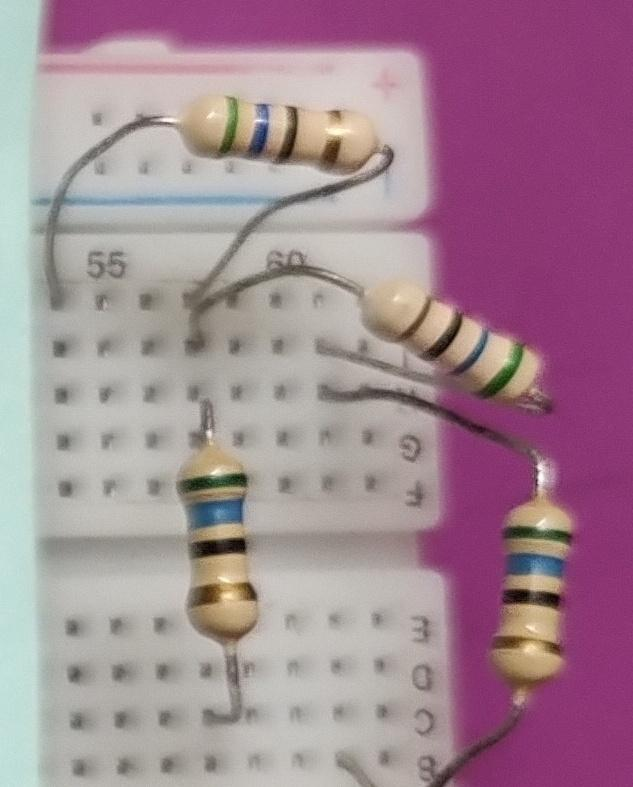resistor: (358, 258, 564, 422), (158, 438, 290, 650), (172, 76, 382, 202), (474, 488, 594, 700)
